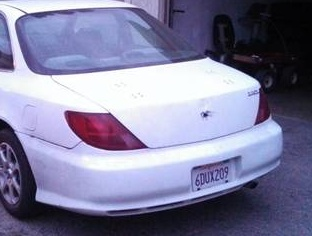acura: (1, 1, 286, 220)
